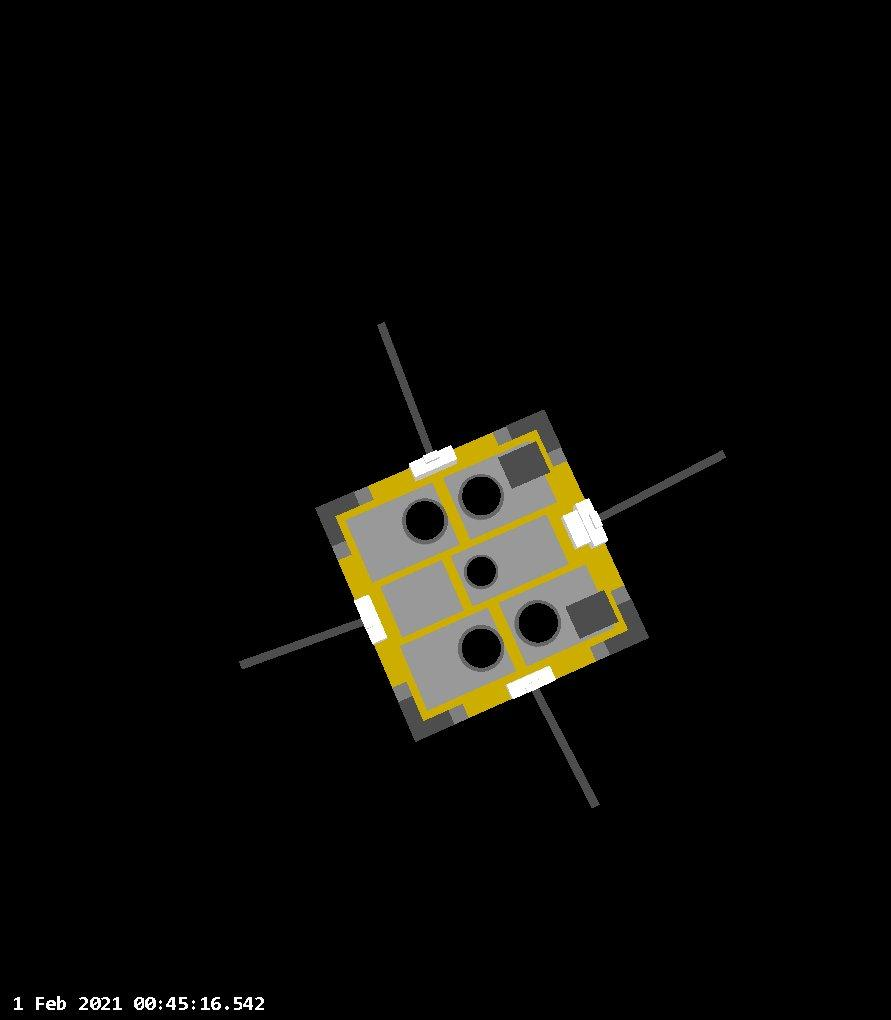antenna: (595, 447, 734, 523), (373, 315, 439, 461), (532, 682, 603, 813), (234, 615, 367, 673)
body: (314, 406, 653, 746)
